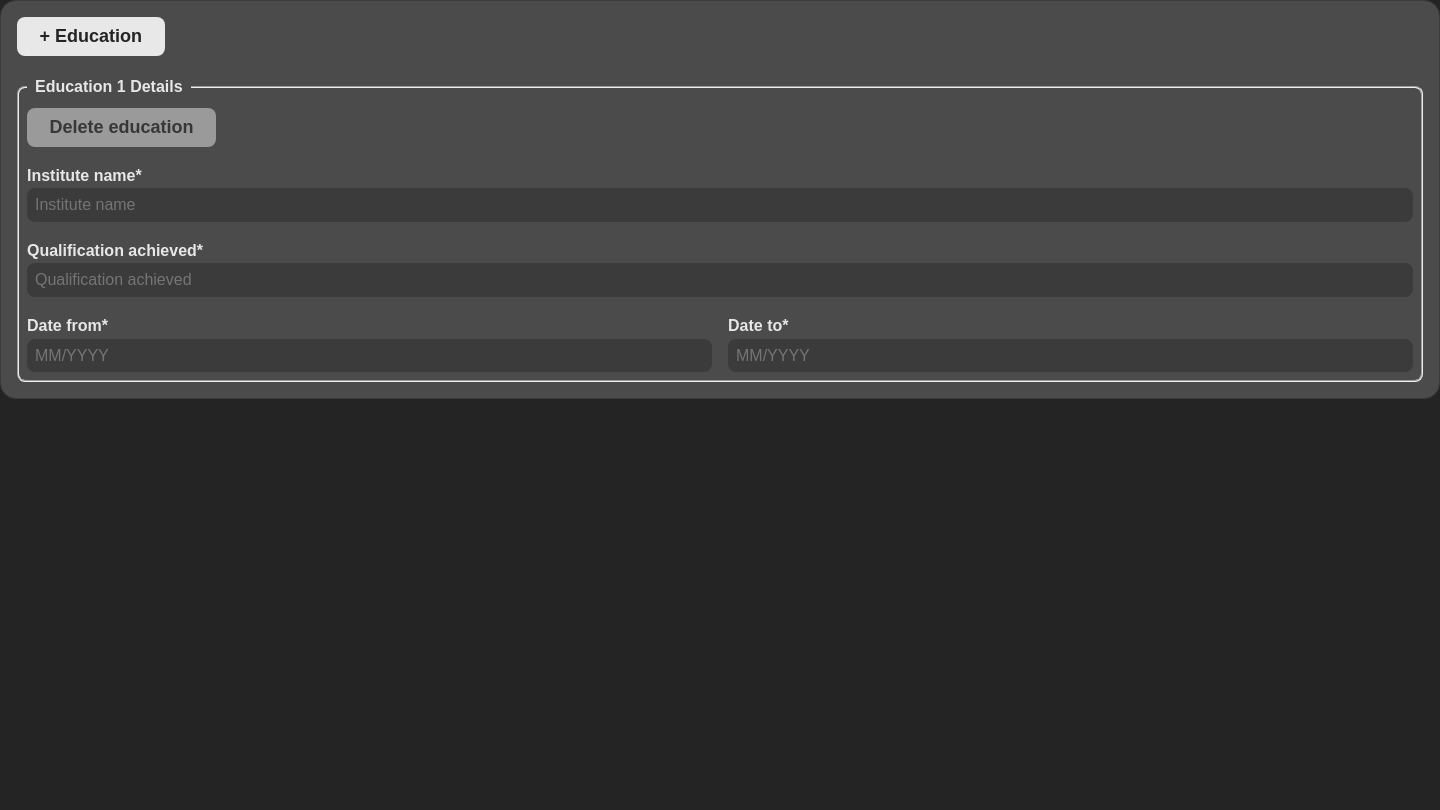
Test: Testing the Education component › Testing form buttons and inputs › Clicking delete education deletes the correct education
The image size is (1440, 810).
Click the button "+ Education".
click(91, 36)  # box [17,17,164,56]
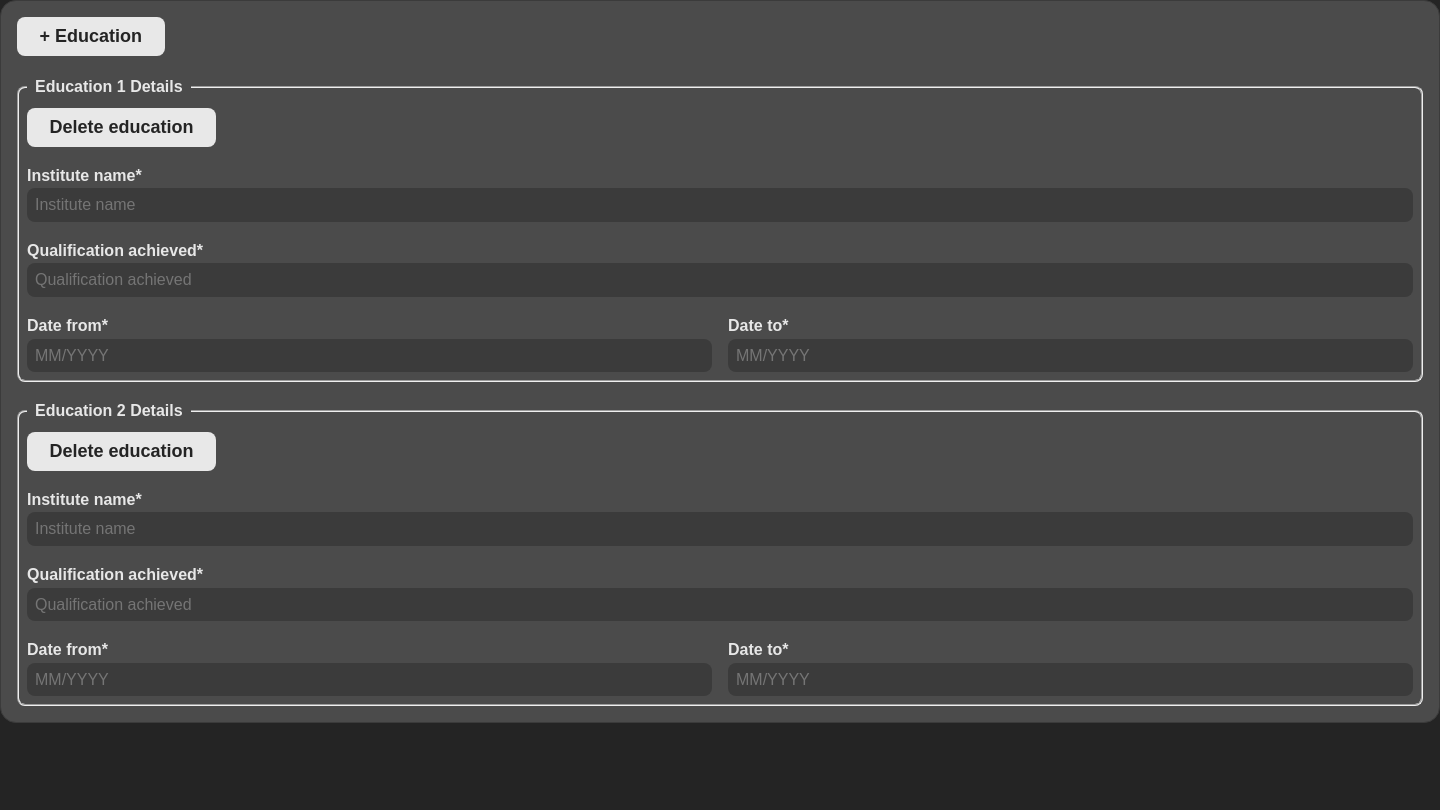
Click the button "+ Education".
click(91, 36)  # box [17,17,164,56]
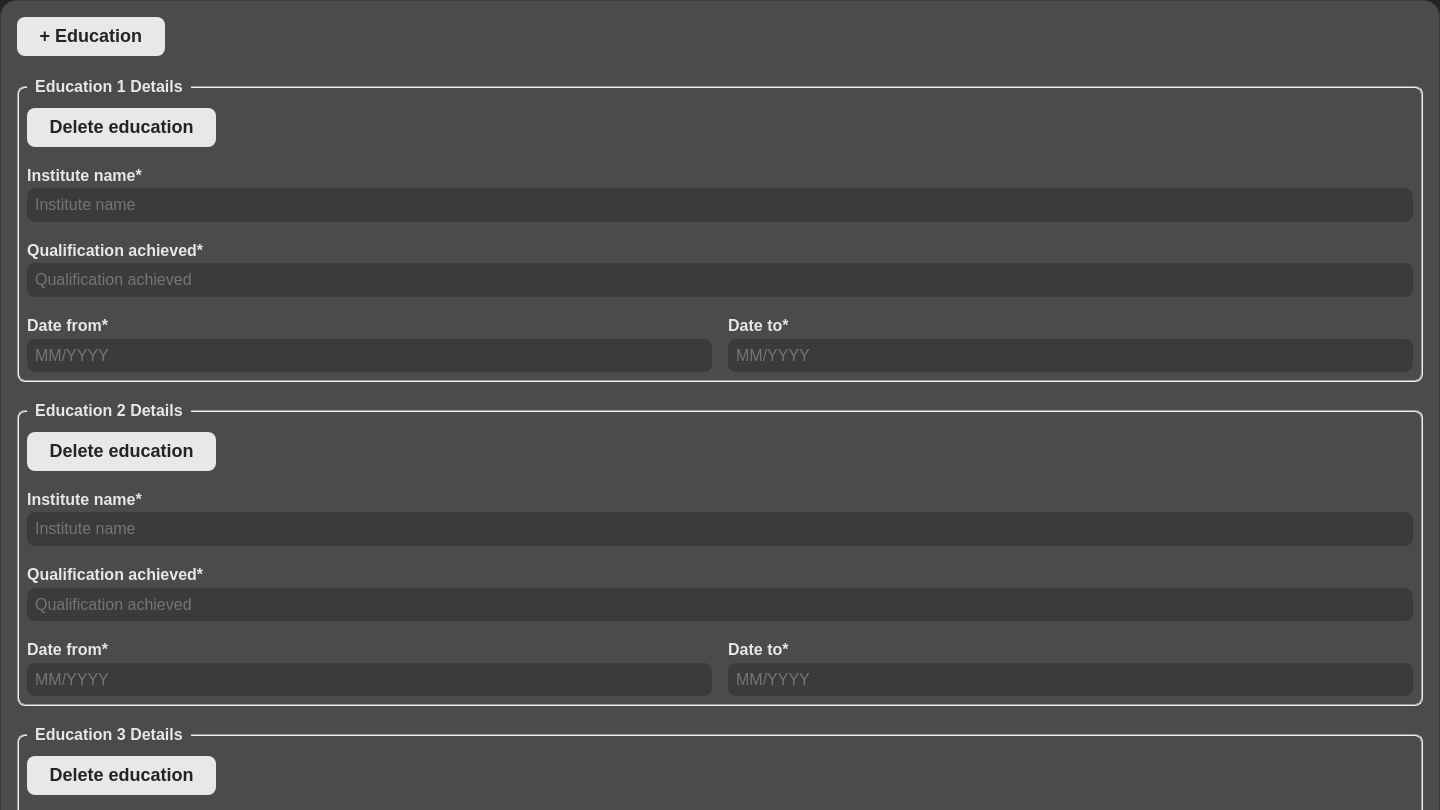
Type "Inst 1" into the field with placeholder "Institute name" below "Education 1 Details".
click(720, 205); type("Inst 1")  # box [27,188,1413,222]
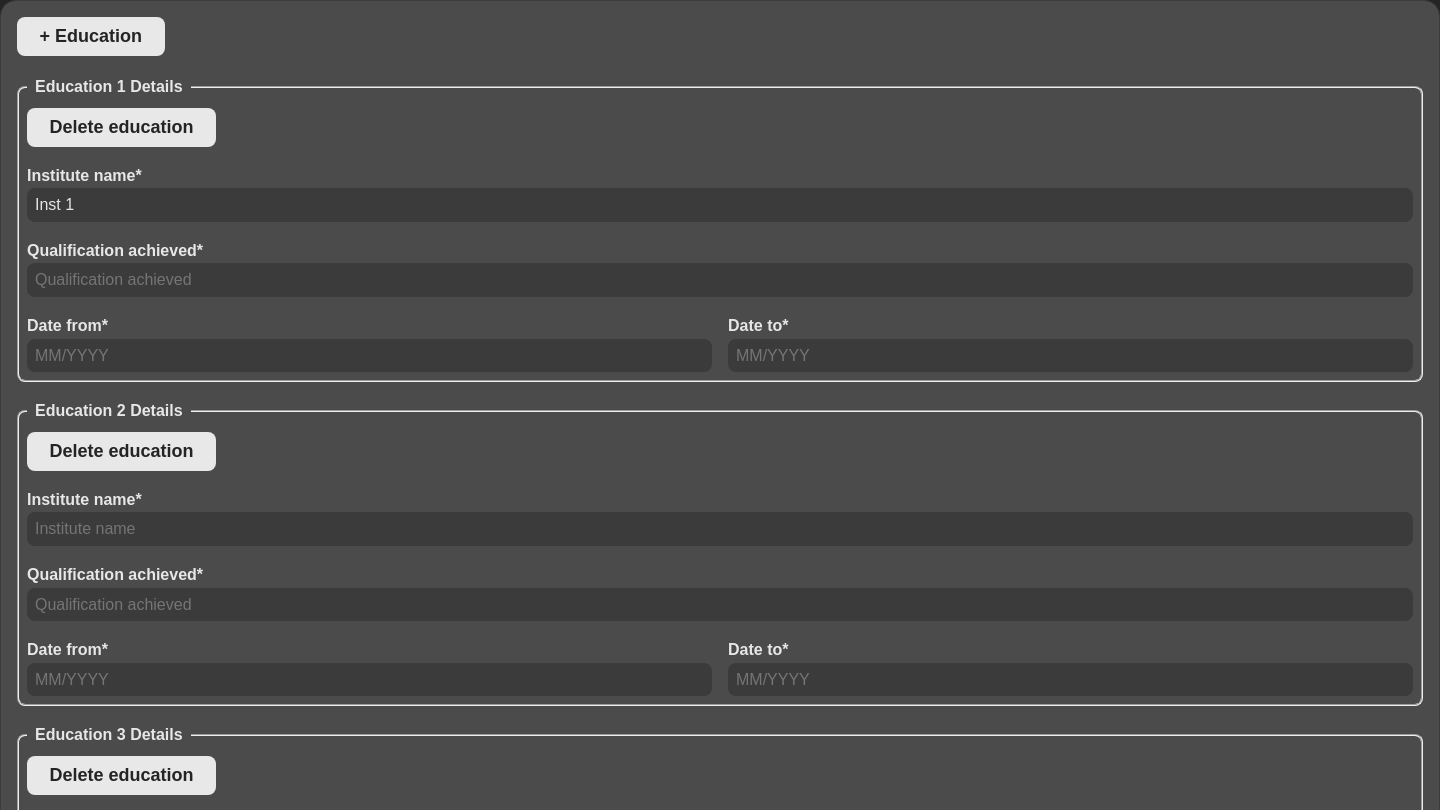
Type "Inst 2" into the field with placeholder "Institute name" below "Education 2 Details".
click(720, 529); type("Inst 2")  # box [27,512,1413,546]
(page scrolled)
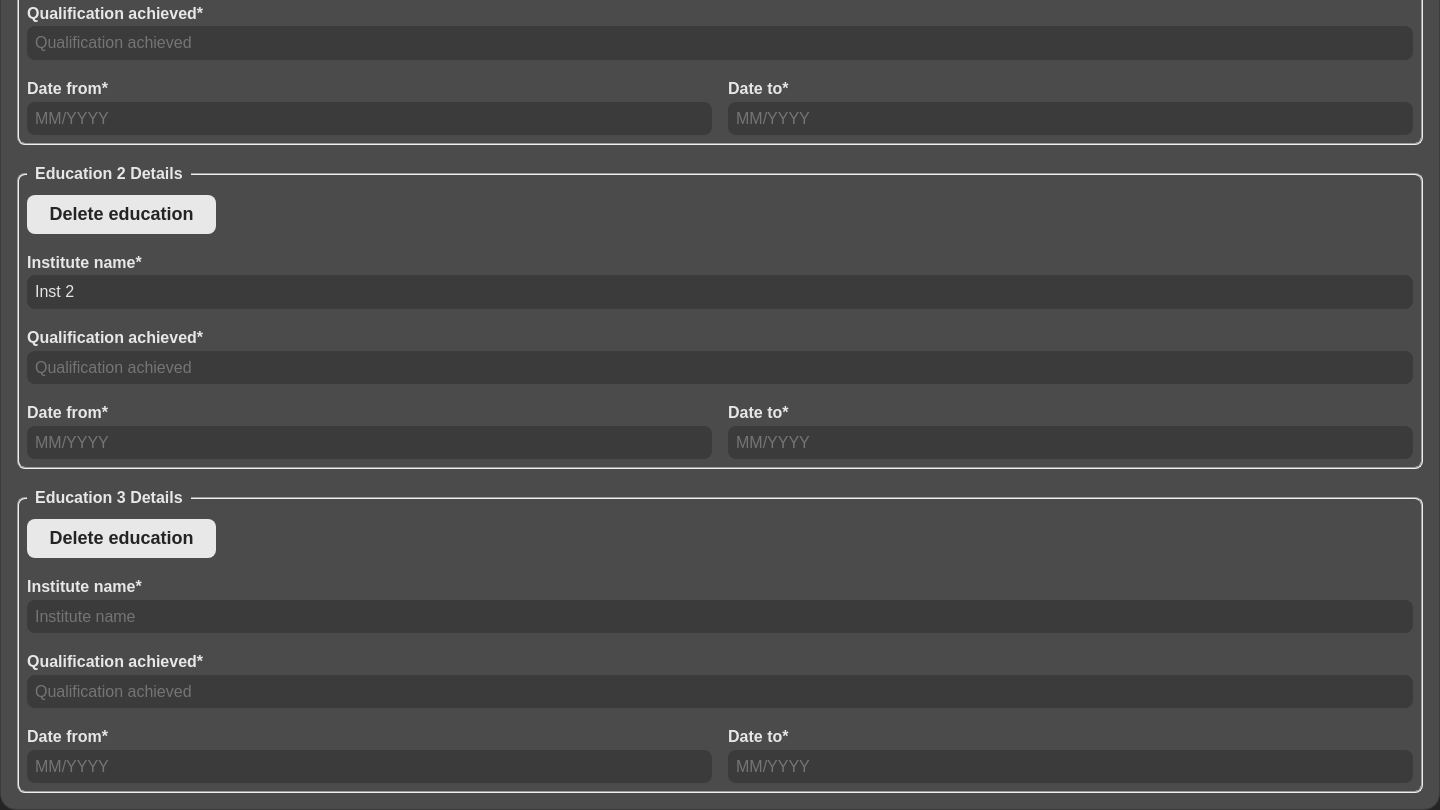
Type "Inst 3" into the field with placeholder "Institute name" below "Education 3 Details".
click(720, 616); type("Inst 3")  # box [27,600,1413,633]
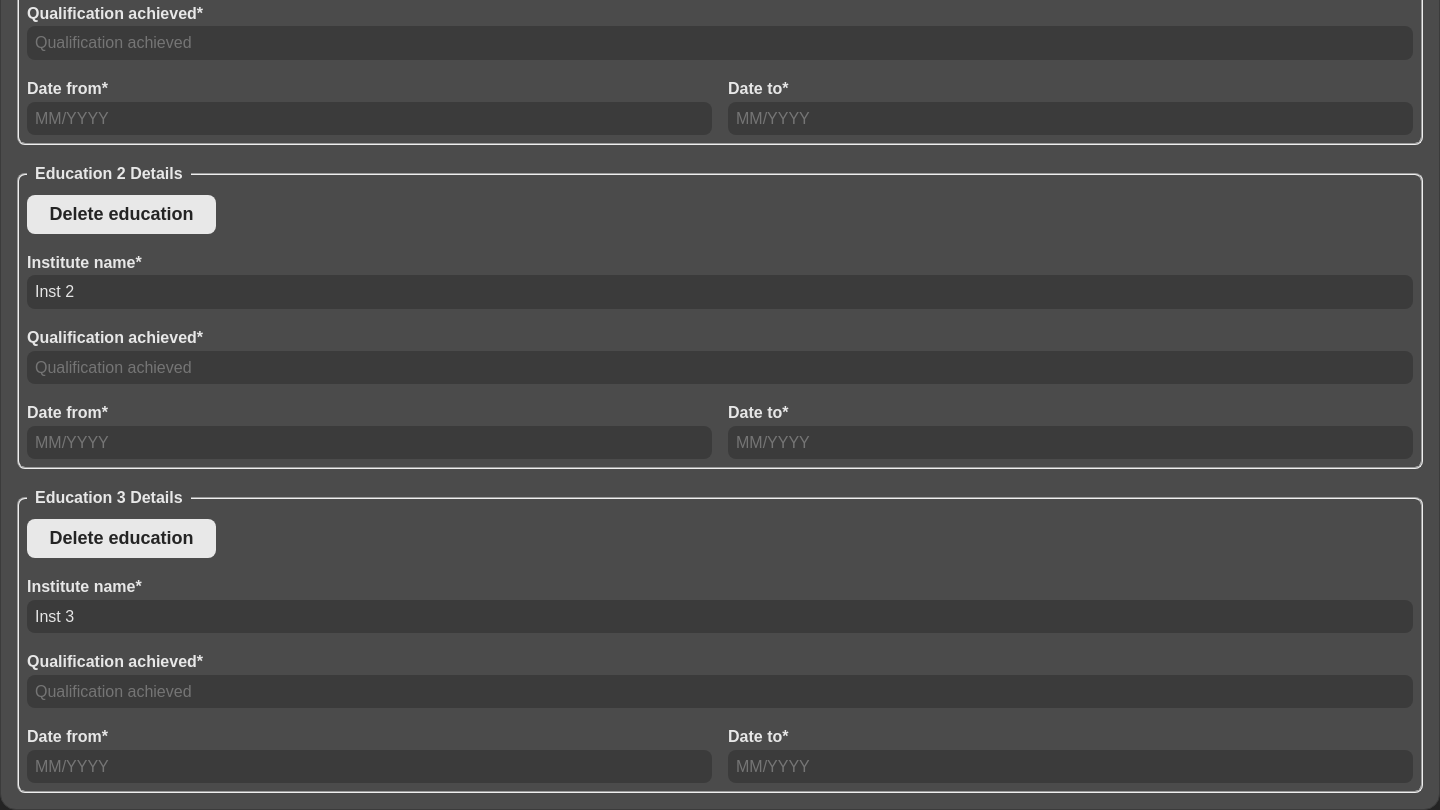
Click the button "Delete education" below "Education 2 Details".
click(122, 214)  # box [27,195,216,234]
(page scrolled)
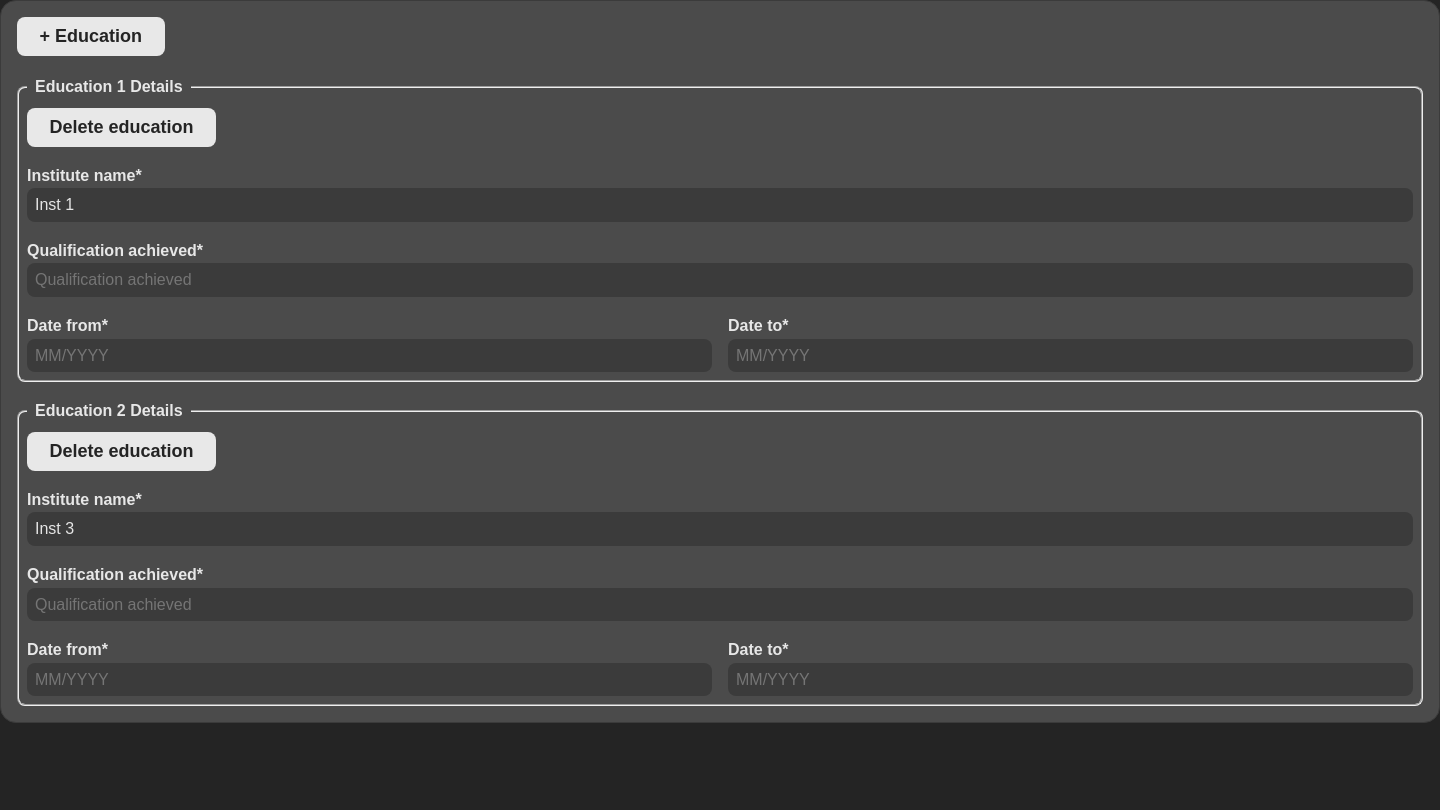
Now the field showing "Inst 3" below "Education 2 Details" is shown, box [27,512,1413,546]
